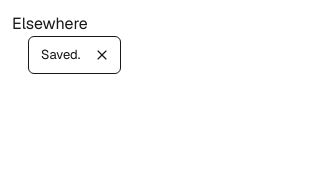
Test: how long a notice stays › a newer notice that arrives under the pointer waits too
The width and height of the screenshot is (332, 172).
Later steps or results of the test are not shown.
Hover over the element showing "Saved.".
mouse_move(75, 55)  # box [28,36,122,74]
Wait 60000 ms
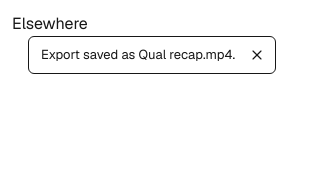
Result: the text "Export saved as Qual recap.mp4." is shown at [41,46,235,63]
